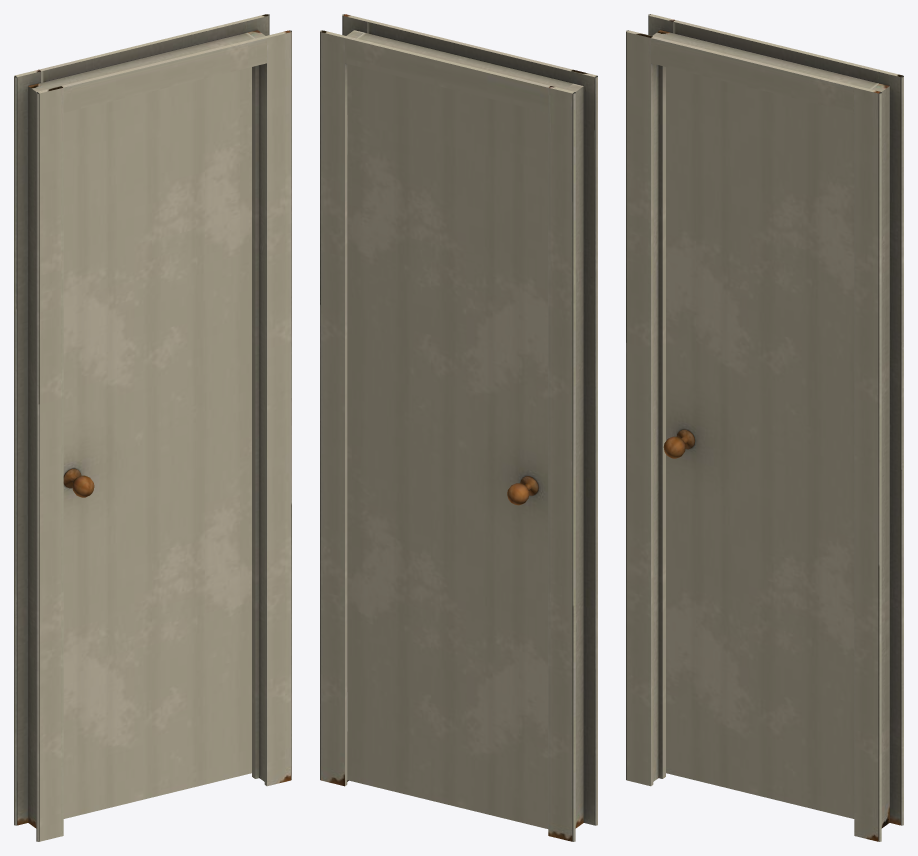
Rendered from door_flat_narrow_web.glb.
3 views of the same model, side by side, from view 1: azimuth 30°, elevation 25°; view 2: azimuth 150°, elevation 25°; view 3: azimuth 330°, elevation 25° (orthographic).
Visible parts, largest first — view 1: Door_Mesh, DoorFlatNarrow_Frame; view 2: Door_Mesh, DoorFlatNarrow_Frame; view 3: Door_Mesh, DoorFlatNarrow_Frame.
Boxes of the visible parts, x1=… form: Door_Mesh: x1=63, y1=67, x2=251, y2=818; DoorFlatNarrow_Frame: x1=14, y1=14, x2=291, y2=841; Door_Mesh: x1=347, y1=64, x2=548, y2=828; DoorFlatNarrow_Frame: x1=320, y1=14, x2=597, y2=841; Door_Mesh: x1=663, y1=67, x2=854, y2=818; DoorFlatNarrow_Frame: x1=626, y1=14, x2=903, y2=841.
Bounding box in the file's own units: 0.7419 × 2.07 × 0.212.
1 material, 1 textured.
